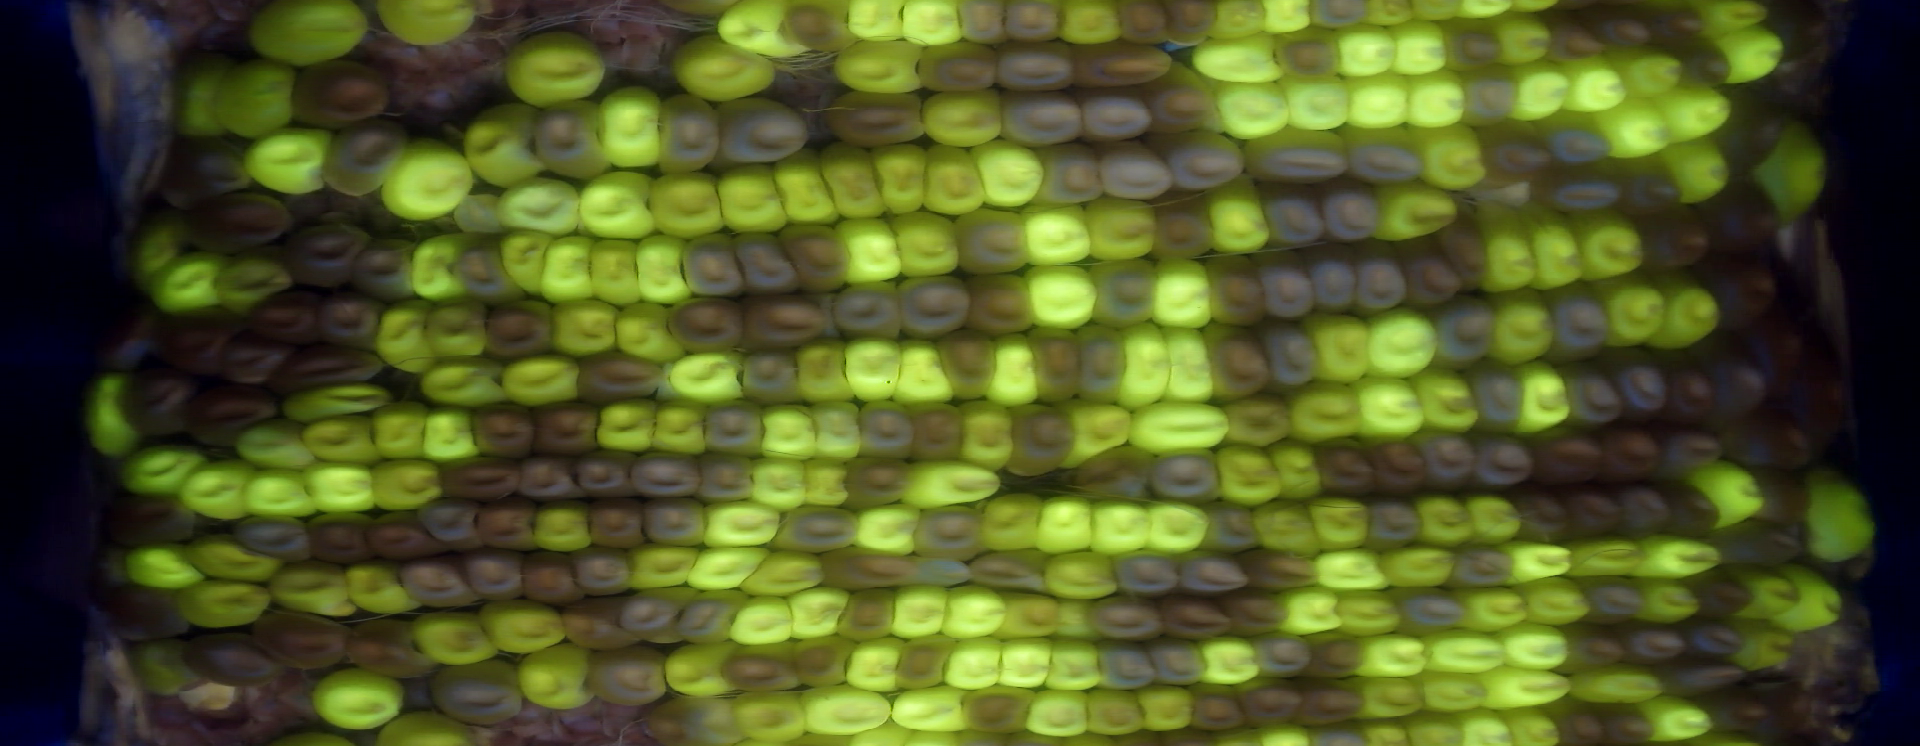fluorescent: (1745, 110, 1829, 236), (373, 130, 474, 229), (241, 1, 373, 73), (498, 27, 615, 109), (456, 96, 553, 191), (1796, 464, 1882, 570), (664, 29, 779, 107), (206, 58, 305, 147), (1358, 175, 1468, 250), (304, 659, 411, 734), (1048, 393, 1147, 473), (260, 557, 366, 628), (238, 122, 336, 198), (1761, 559, 1850, 639), (591, 81, 667, 175), (1591, 266, 1671, 354), (1644, 267, 1725, 355), (1562, 203, 1651, 284), (164, 48, 239, 142), (1515, 202, 1589, 296), (572, 168, 662, 245), (171, 453, 268, 526), (1471, 198, 1543, 295), (828, 33, 931, 100), (1200, 171, 1276, 262), (1122, 397, 1236, 457), (1016, 254, 1102, 333), (487, 171, 588, 239), (1482, 282, 1561, 366), (365, 1, 489, 55), (1408, 118, 1494, 195), (643, 167, 730, 243), (407, 605, 506, 671), (178, 532, 291, 589), (1360, 303, 1445, 380), (1108, 318, 1176, 415), (77, 369, 144, 465), (658, 635, 754, 702), (144, 245, 231, 320), (208, 243, 294, 317), (795, 677, 899, 739), (1206, 73, 1294, 146), (1296, 309, 1375, 388), (1686, 454, 1764, 535), (829, 211, 911, 288), (769, 145, 844, 229), (1589, 93, 1675, 167), (274, 379, 399, 429), (514, 639, 595, 717), (816, 138, 891, 220), (407, 228, 482, 310), (127, 208, 195, 300), (369, 292, 440, 379), (475, 590, 572, 654), (1278, 379, 1375, 442), (916, 83, 1009, 149), (1716, 611, 1809, 677), (174, 573, 276, 633), (115, 439, 211, 502), (714, 158, 791, 236), (915, 140, 989, 220), (1663, 129, 1736, 211), (1502, 355, 1575, 439), (895, 454, 1004, 510), (713, 1, 811, 62), (789, 331, 864, 409), (1155, 318, 1220, 409), (1651, 77, 1738, 145), (1351, 372, 1431, 445), (1551, 49, 1635, 119), (969, 137, 1046, 212), (1081, 191, 1160, 265), (884, 209, 965, 281), (1604, 40, 1693, 104), (1720, 559, 1805, 626), (1209, 439, 1287, 511), (1189, 29, 1287, 87), (1149, 254, 1217, 336), (118, 632, 201, 699), (1409, 364, 1484, 439), (414, 354, 511, 412), (866, 138, 936, 218), (546, 292, 626, 361), (1629, 529, 1729, 584), (298, 454, 382, 519), (1018, 200, 1096, 269), (887, 336, 960, 409), (1037, 544, 1123, 606), (955, 394, 1021, 475), (496, 350, 587, 409), (839, 630, 915, 699), (1565, 659, 1670, 709), (336, 559, 421, 620), (1277, 69, 1358, 134), (366, 451, 448, 514), (231, 414, 320, 473), (583, 232, 645, 314), (1505, 58, 1580, 126), (535, 230, 601, 307), (589, 390, 662, 458), (621, 537, 707, 595), (733, 548, 831, 599), (238, 463, 320, 524), (839, 330, 905, 405), (1340, 69, 1416, 135), (887, 681, 973, 739), (697, 492, 784, 550), (665, 349, 748, 409), (982, 330, 1044, 409), (680, 543, 768, 599), (1416, 624, 1507, 677), (369, 704, 487, 746), (612, 299, 687, 365), (414, 401, 490, 465), (936, 579, 1011, 644), (421, 295, 492, 364), (298, 412, 386, 467), (1480, 661, 1580, 710), (1138, 492, 1213, 556), (1249, 496, 1326, 559), (1635, 690, 1724, 744), (1408, 483, 1478, 551), (492, 227, 560, 298), (1716, 20, 1788, 86), (1513, 573, 1598, 630), (1080, 495, 1155, 559), (634, 232, 696, 309), (1376, 540, 1466, 593), (525, 491, 595, 559), (735, 687, 814, 746), (124, 539, 208, 594), (976, 488, 1044, 555), (1305, 489, 1376, 554), (1329, 583, 1409, 639), (754, 397, 820, 465), (1029, 490, 1095, 559), (804, 396, 869, 465), (1347, 671, 1429, 726), (648, 393, 715, 459), (366, 398, 433, 464), (1404, 67, 1471, 135), (1565, 532, 1649, 584), (1495, 537, 1583, 587), (1493, 620, 1578, 671), (1453, 579, 1533, 635), (744, 451, 813, 514), (1488, 6, 1558, 69), (1311, 543, 1392, 597), (940, 628, 1005, 695), (853, 499, 924, 559), (1354, 628, 1431, 684), (1332, 20, 1404, 78), (1411, 666, 1495, 717), (889, 579, 953, 646), (1262, 439, 1329, 502), (1382, 16, 1450, 78), (722, 592, 800, 646), (989, 586, 1064, 641), (1081, 684, 1152, 740), (787, 581, 852, 642), (1198, 633, 1266, 691), (1455, 489, 1524, 545), (1022, 685, 1095, 739), (1633, 572, 1704, 626), (1277, 584, 1349, 637), (1040, 636, 1107, 692), (991, 635, 1058, 690), (1056, 1, 1128, 50), (795, 456, 856, 511), (1135, 680, 1198, 734), (900, 1, 966, 51), (1689, 1, 1776, 39), (838, 1, 911, 45), (1498, 701, 1569, 746), (1049, 594, 1104, 646), (1204, 1, 1272, 40), (1401, 708, 1471, 746), (1456, 704, 1517, 746), (1259, 1, 1318, 40), (1251, 719, 1318, 746), (1359, 1, 1417, 31)
nonfluorescent: (171, 185, 299, 260), (157, 130, 266, 217), (284, 53, 393, 135), (313, 111, 409, 203), (1690, 176, 1787, 266), (524, 96, 620, 184), (426, 650, 529, 731), (1689, 247, 1783, 336), (707, 91, 812, 169), (175, 625, 294, 693), (1691, 333, 1772, 434), (820, 83, 938, 152), (246, 606, 358, 677), (337, 614, 443, 686), (1782, 348, 1854, 454), (1711, 85, 1791, 179), (1236, 124, 1354, 186), (280, 214, 375, 293), (273, 334, 388, 398), (93, 488, 204, 552), (1062, 36, 1180, 96), (115, 361, 204, 441), (1065, 440, 1167, 510), (1630, 201, 1720, 278), (181, 375, 274, 450), (157, 300, 245, 379), (1747, 300, 1813, 404), (1133, 58, 1217, 138), (1540, 276, 1616, 365), (1333, 121, 1434, 187), (648, 88, 720, 180), (1200, 318, 1277, 404), (722, 225, 811, 300), (1717, 409, 1820, 473), (951, 205, 1035, 283), (555, 589, 649, 658), (633, 691, 748, 746), (1156, 127, 1251, 194), (1704, 518, 1807, 579), (585, 639, 673, 710), (97, 582, 195, 646), (1434, 198, 1498, 296), (1087, 138, 1182, 205), (774, 220, 855, 298), (1200, 249, 1275, 332), (1462, 424, 1545, 499), (895, 269, 980, 343), (1085, 254, 1162, 333), (1150, 185, 1224, 267), (996, 87, 1091, 151), (447, 239, 534, 309), (738, 292, 835, 354), (1068, 316, 1133, 409), (568, 347, 669, 407), (915, 34, 1005, 100), (615, 579, 700, 649), (393, 549, 489, 611), (91, 292, 159, 379), (658, 292, 749, 356), (1255, 179, 1331, 257), (1027, 138, 1111, 209), (1588, 416, 1673, 486), (673, 228, 752, 303), (1391, 235, 1464, 315), (1429, 289, 1502, 369), (1605, 344, 1678, 425), (716, 639, 813, 699), (479, 292, 563, 360), (1558, 353, 1630, 432), (1524, 425, 1611, 491), (987, 36, 1082, 96), (1007, 397, 1075, 480), (1744, 673, 1828, 740), (1457, 356, 1531, 434), (246, 282, 326, 353), (1341, 238, 1411, 318), (358, 506, 456, 563), (311, 283, 393, 352), (958, 269, 1040, 338), (936, 323, 1004, 405), (1534, 109, 1622, 173), (1536, 160, 1632, 218), (345, 230, 424, 301), (1607, 156, 1693, 219), (1755, 1, 1838, 67), (1024, 320, 1085, 409), (825, 281, 909, 345), (696, 391, 771, 462), (774, 502, 869, 559), (1656, 345, 1723, 425), (1360, 431, 1436, 501), (1073, 85, 1161, 145), (816, 541, 920, 592), (736, 341, 809, 412), (1411, 423, 1485, 492), (1253, 317, 1321, 393), (686, 445, 765, 510), (1476, 119, 1561, 179), (1315, 175, 1386, 247), (1253, 247, 1320, 323), (1308, 432, 1385, 499), (1085, 590, 1173, 648), (509, 543, 589, 606), (527, 394, 604, 459), (905, 502, 988, 562), (229, 511, 320, 566), (670, 586, 748, 649), (852, 394, 924, 463), (1658, 34, 1739, 96), (437, 451, 527, 506), (1144, 447, 1226, 507), (467, 398, 544, 462), (1571, 570, 1651, 631), (1747, 459, 1815, 532), (889, 632, 962, 698), (457, 544, 533, 608), (1536, 5, 1611, 69), (1551, 620, 1633, 679), (778, 1, 862, 58), (840, 450, 911, 516), (577, 492, 651, 555), (304, 510, 381, 570), (1271, 24, 1348, 85), (1455, 60, 1523, 127), (628, 443, 707, 502), (1215, 581, 1293, 639), (1654, 657, 1756, 702), (1232, 673, 1313, 729), (1439, 11, 1507, 77), (568, 540, 642, 601), (1682, 565, 1760, 622), (216, 330, 287, 392), (467, 497, 545, 554), (1657, 424, 1724, 489), (1304, 243, 1362, 318), (1560, 484, 1631, 545), (1510, 488, 1581, 549), (1389, 583, 1471, 636), (1091, 636, 1164, 695), (1173, 548, 1256, 599), (1657, 477, 1727, 538), (1691, 684, 1776, 734), (967, 545, 1056, 593), (1608, 479, 1675, 541), (1142, 630, 1213, 688), (791, 631, 862, 690), (564, 450, 642, 503), (835, 583, 901, 646), (1107, 546, 1185, 599), (1296, 676, 1374, 729), (511, 453, 590, 505), (1442, 540, 1520, 593), (1611, 617, 1692, 668), (905, 398, 970, 461), (638, 494, 711, 549), (1158, 593, 1240, 642), (416, 495, 486, 552), (75, 538, 131, 609), (1302, 624, 1369, 681), (1629, 1, 1712, 48), (1360, 496, 1429, 551), (1198, 500, 1264, 556), (1240, 548, 1325, 590), (1540, 696, 1611, 746), (1589, 698, 1663, 746), (1250, 628, 1316, 681), (1582, 6, 1657, 51), (1188, 681, 1251, 734), (1680, 614, 1750, 661), (902, 549, 975, 594), (996, 1, 1063, 47), (1157, 1, 1224, 47), (949, 1, 1010, 47), (1109, 1, 1171, 47), (1304, 1, 1375, 33)
